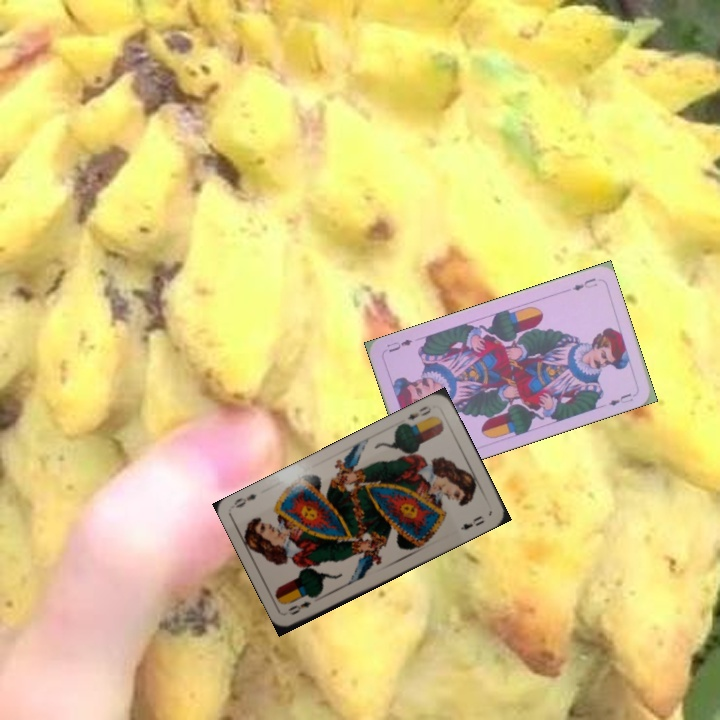EO: (399, 402, 434, 430), (284, 597, 314, 618)
EU: (569, 274, 600, 293)
